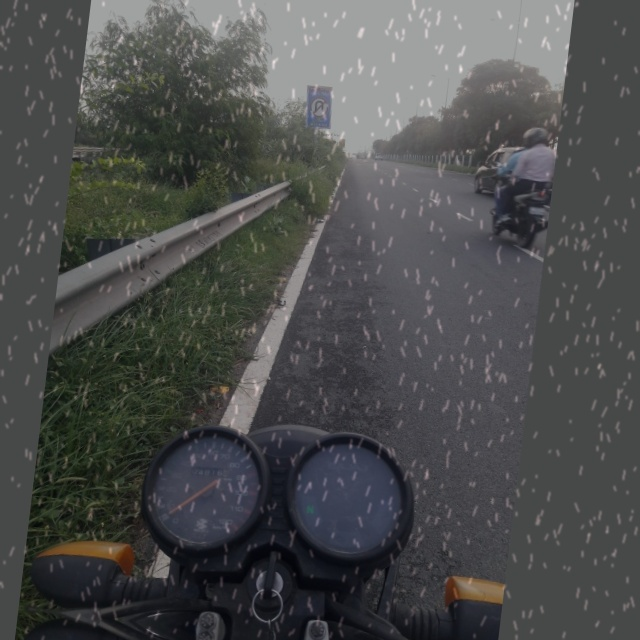U_Turn_Prohibited: (304, 88, 336, 127)
